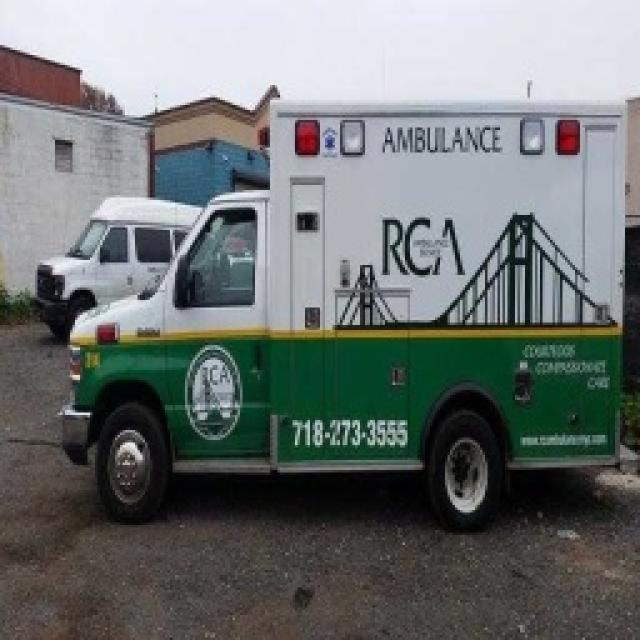emergency-vehicle: (64, 95, 626, 525)
